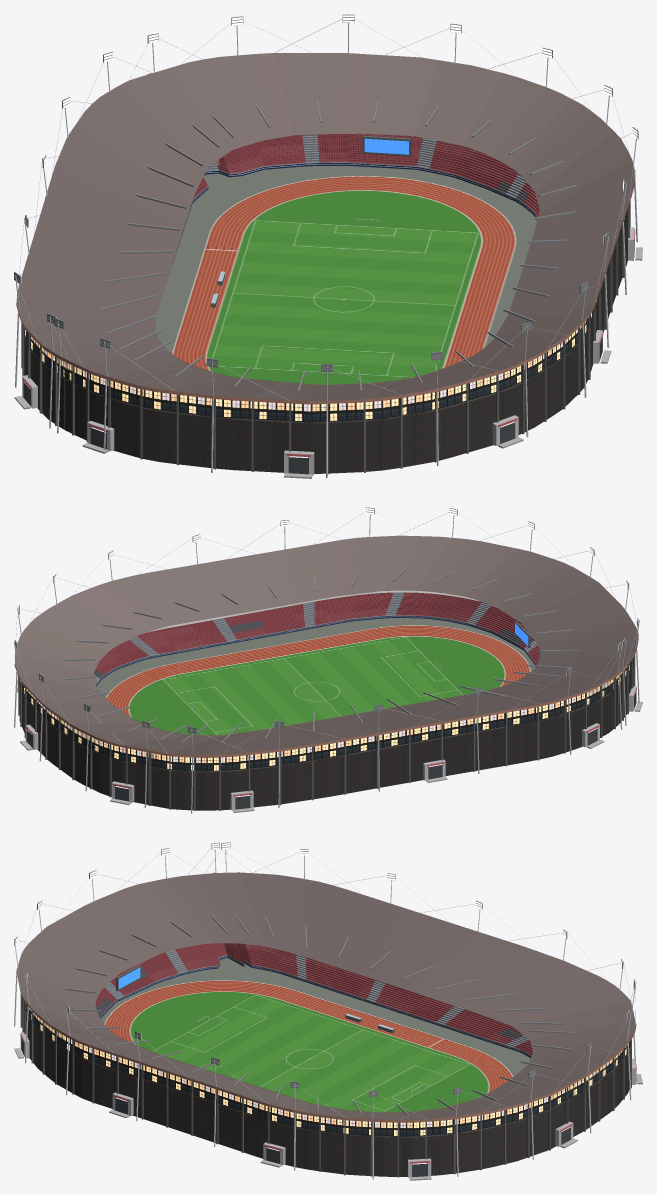
The model's file is k93_stadion.glb.
3 renders of one model, top to bottom at view 1: azimuth 30°, elevation 25°; view 2: azimuth 150°, elevation 25°; view 3: azimuth 270°, elevation 25°, orthographic. The views are drawn at different scales.
Bounding box in the file's own units: 232 × 37.71 × 244.
Materials: 10 (8 with a texture image).
